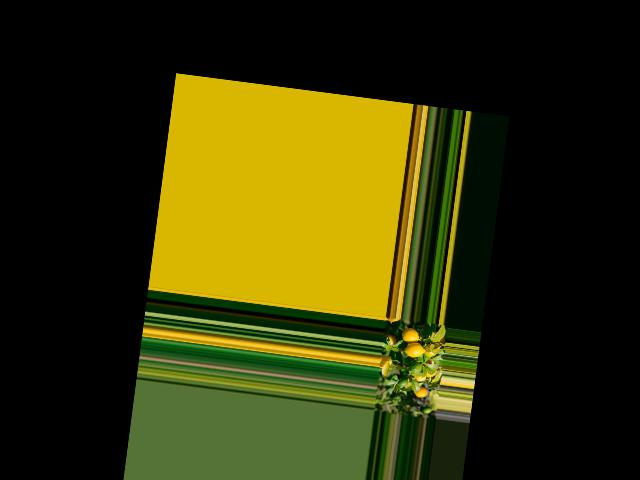lemon: (410, 385, 429, 401)
